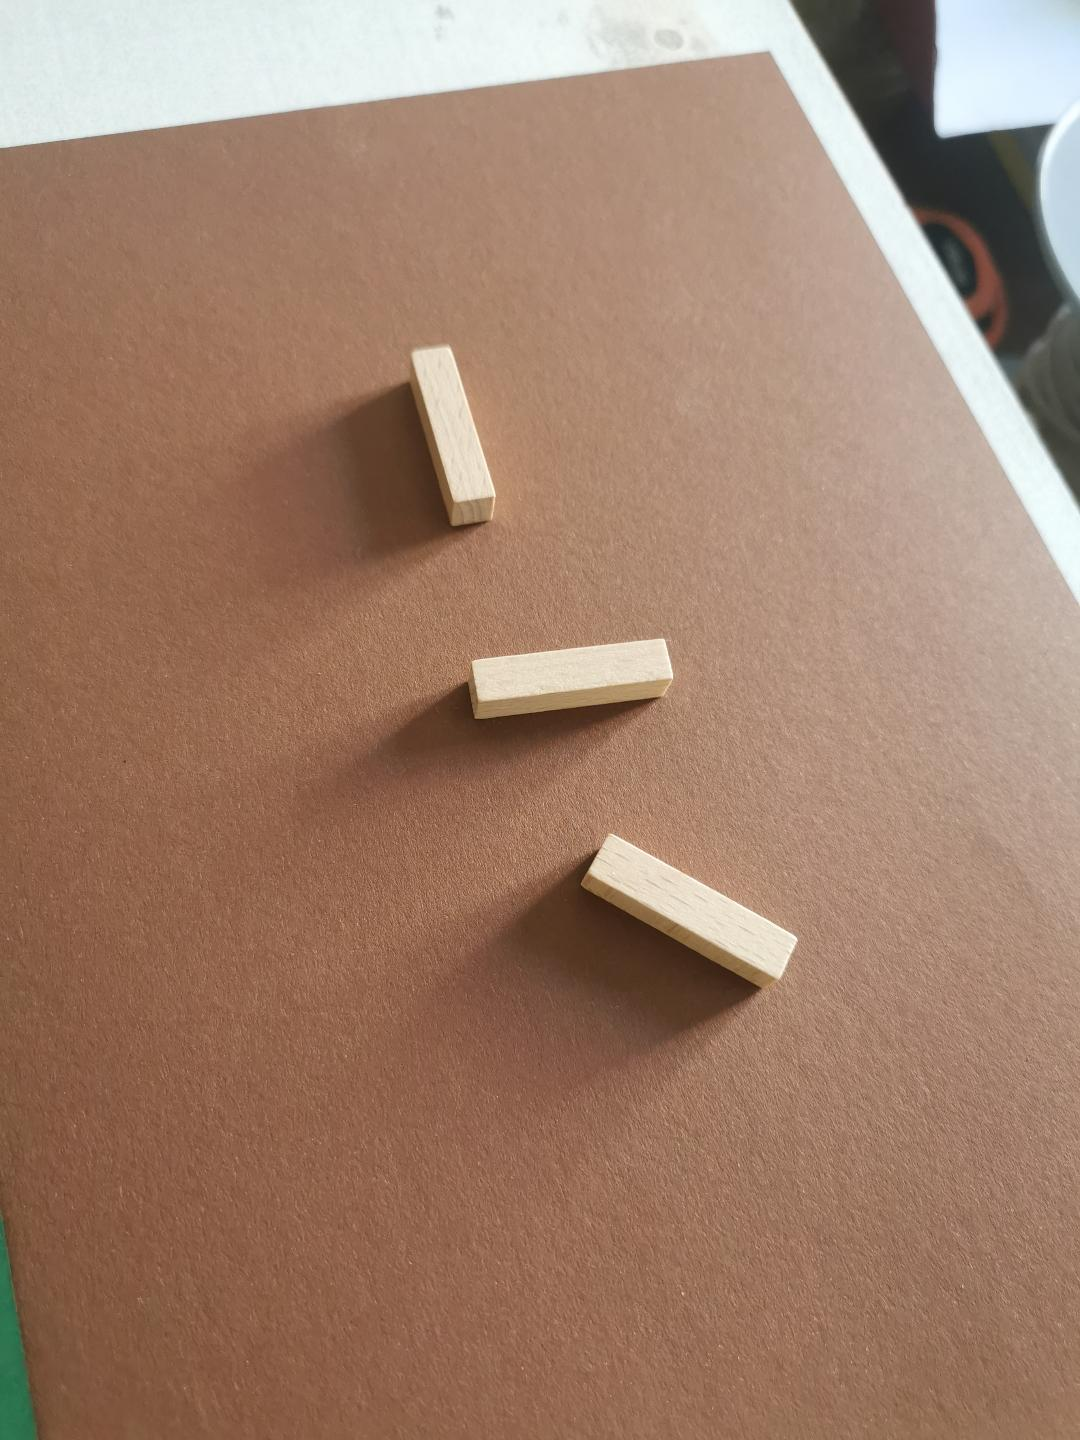jenga: (582, 836, 796, 988), (470, 638, 673, 718), (411, 346, 495, 526)
